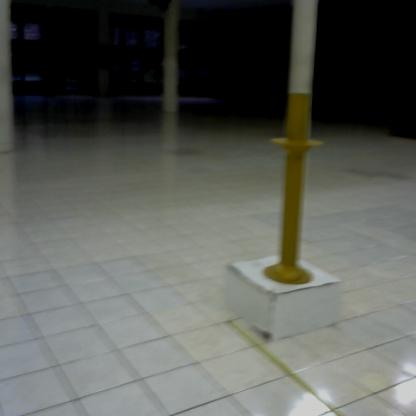pole: (264, 88, 328, 289)
